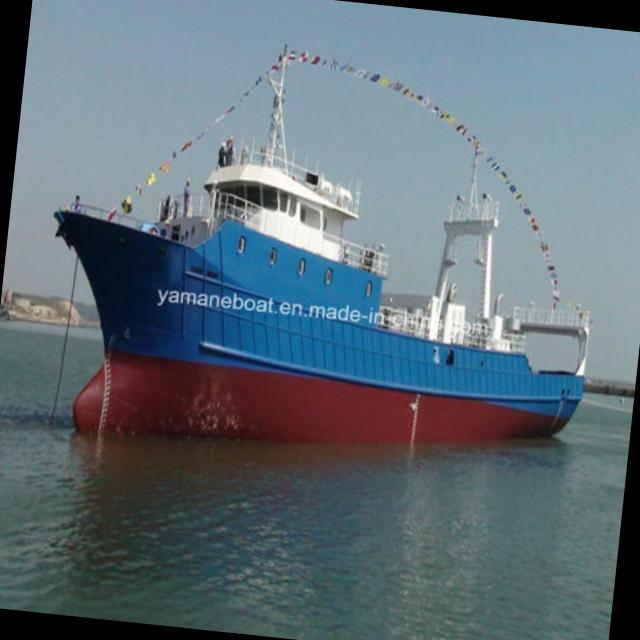boat: (7, 0, 638, 527)
